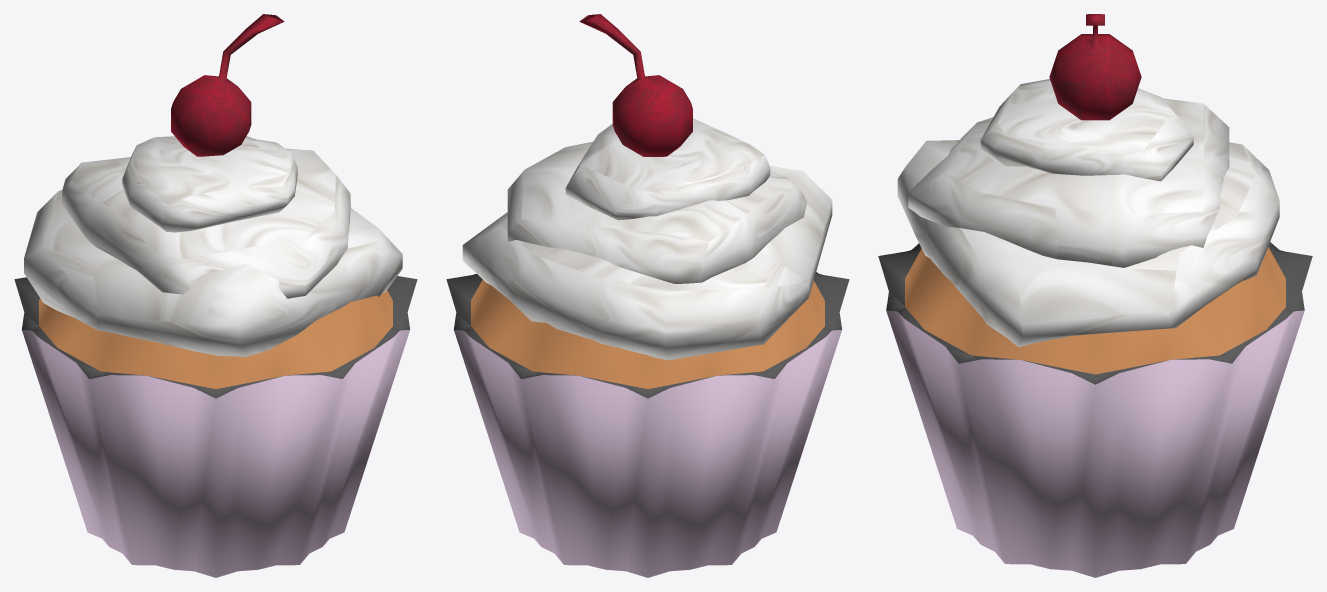
The model's file is CUPCAKE05.FBX.
The picture shows the model from 3 angles, left to right: view 1: azimuth 30°, elevation 25°; view 2: azimuth 150°, elevation 25°; view 3: azimuth 270°, elevation 25°; orthographic projection. The views are drawn at different scales.
Parts seen in each view (by area): view 1: Cylinder001, Box003, Object002, Object001, Sphere001; view 2: Cylinder001, Box003, Object002, Object001, Sphere001; view 3: Cylinder001, Box003, Object002, Object001, Sphere001.
Part boxes in pixels (x1,y1,x2,y2): Cylinder001: (14,276,417,577); Box003: (24,190,402,356); Object002: (62,148,350,298); Object001: (122,136,297,232); Sphere001: (171,14,284,156); Cylinder001: (446,272,849,577); Box003: (462,166,832,360); Object002: (507,141,806,283); Object001: (565,118,770,220); Sphere001: (579,14,692,156); Cylinder001: (878,242,1312,577); Box003: (897,140,1279,347); Object002: (908,98,1229,267); Object001: (980,79,1193,181); Sphere001: (1049,14,1141,120).
Size of the model in its own units: 50.19 by 67.93 by 50.35.
5 materials, 2 textured.
